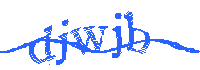b: (125, 10, 151, 56)
d: (29, 25, 55, 66)
j: (56, 18, 69, 70), (110, 13, 124, 60)
w: (71, 25, 107, 54)
